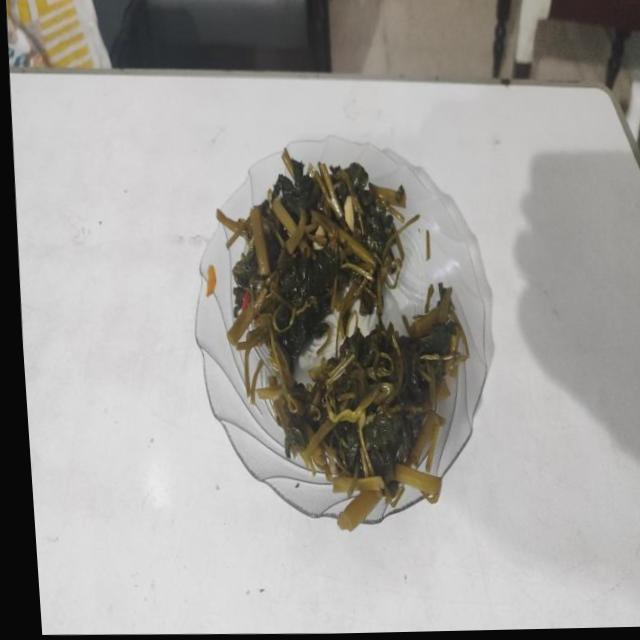tumis_kangkung: (278, 283, 468, 530), (218, 149, 408, 364)
